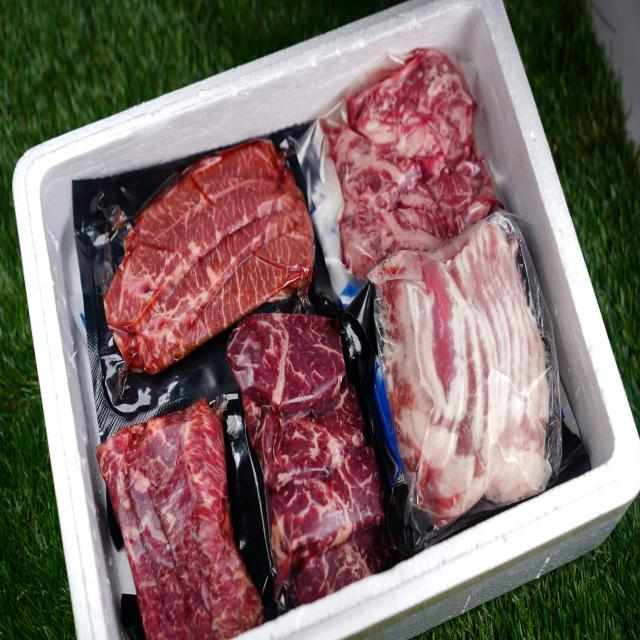pork: (64, 160, 556, 546)
